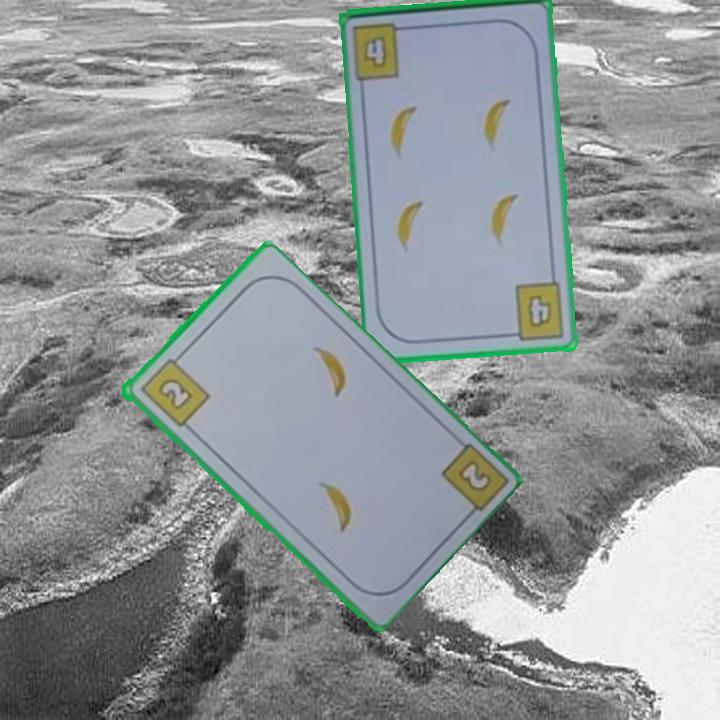2b: (136, 350, 212, 430), (453, 456, 494, 495)
4b: (348, 18, 413, 82), (504, 279, 568, 343)
